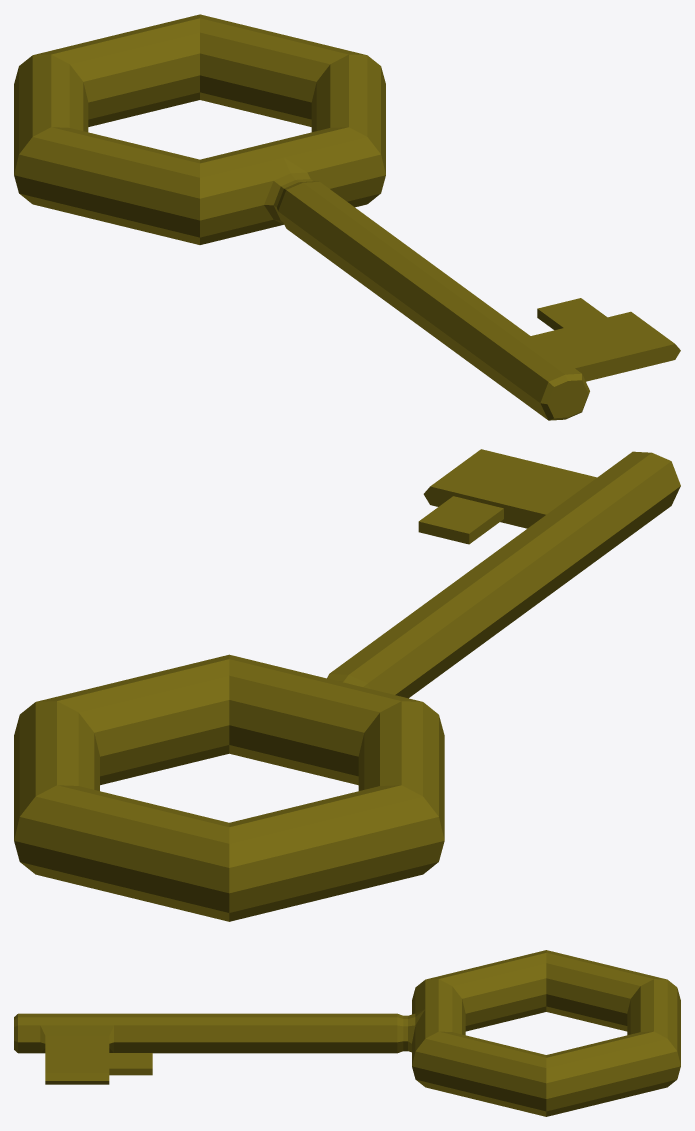
Rendered from chave.fbx.
3 views of the same model, one above another, from view 1: azimuth 30°, elevation 25°; view 2: azimuth 150°, elevation 25°; view 3: azimuth 270°, elevation 25° (orthographic). The views are drawn at different scales.
Parts seen in each view (by area): view 1: Torus.002; view 2: Torus.002; view 3: Torus.002.
Part boxes in pixels (x1,y1,x2,y2): Torus.002: [14, 14, 680, 420]; Torus.002: [14, 449, 680, 921]; Torus.002: [14, 950, 680, 1116].
Bounding box in the file's own units: 250 × 50 × 537.
